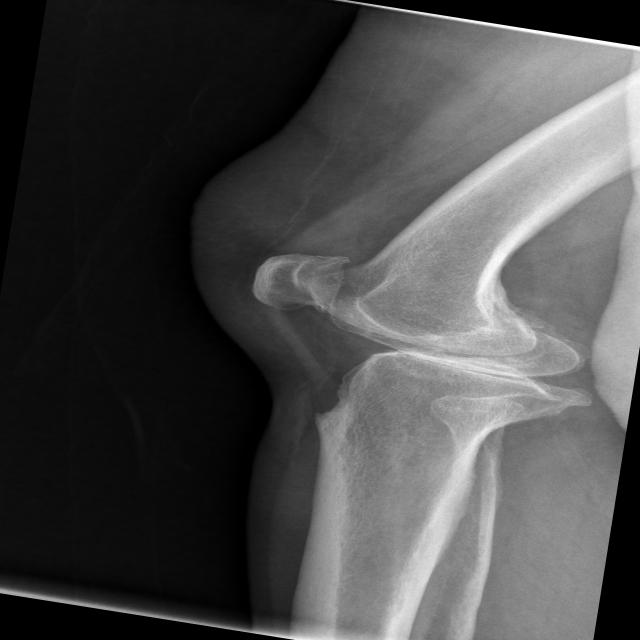Knee: (222, 232, 620, 464)
